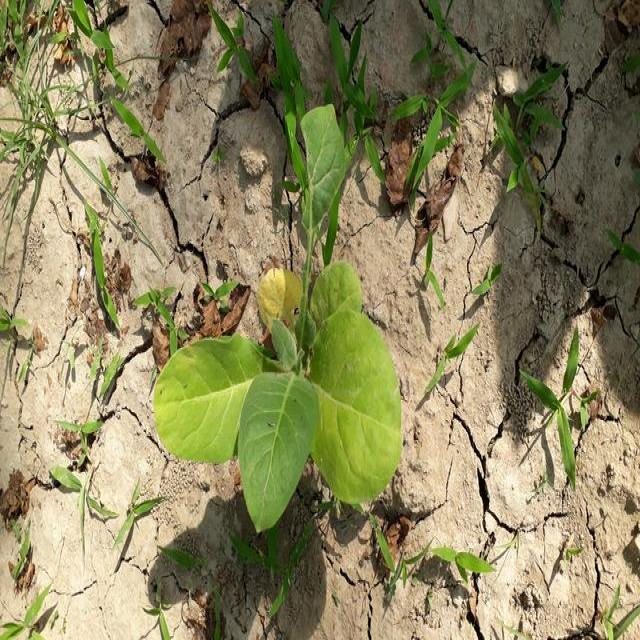crop: (144, 111, 402, 528)
